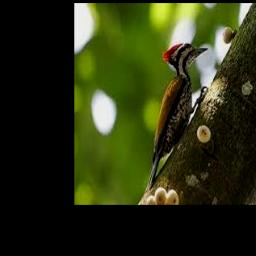Woodpecker: (146, 43, 208, 191)
